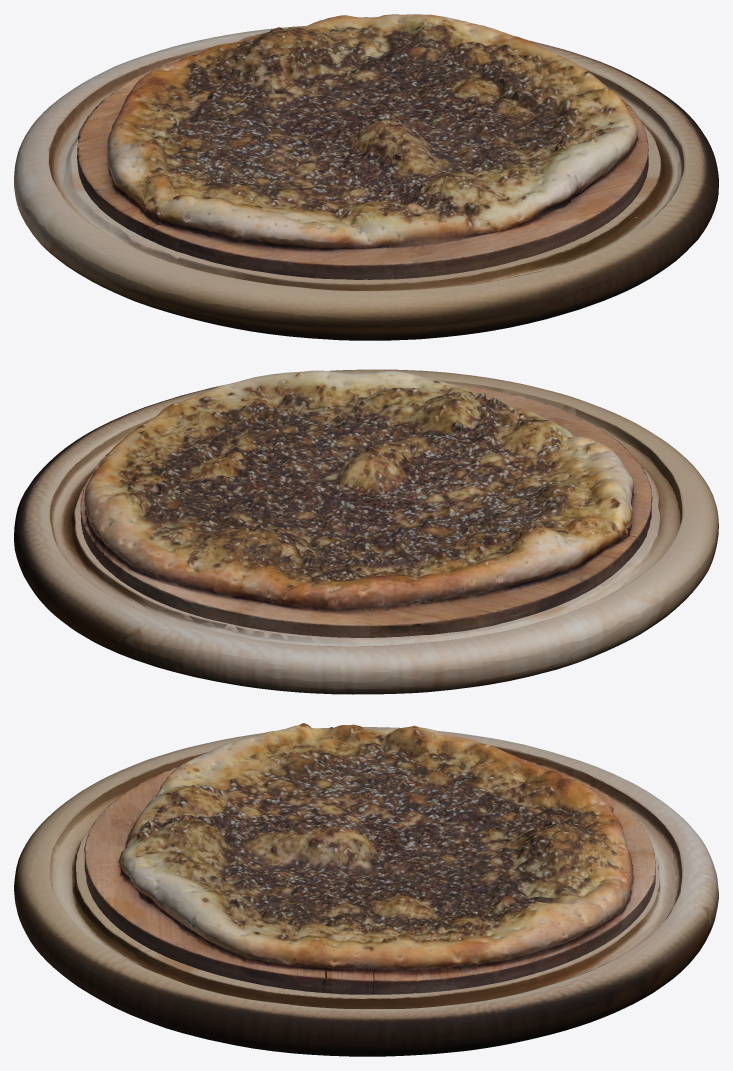
The model's file is Mankouche.Zatar.glb.
3 renders of one model, top to bottom at view 1: azimuth 30°, elevation 25°; view 2: azimuth 150°, elevation 25°; view 3: azimuth 270°, elevation 25°, orthographic.
Visible parts, largest first — view 1: /Root/Scenes/Scene/Object_37/Object_38/Submesh_0, /Root/Scenes/Scene/Object_37/Object_41/Object_42/Submesh_0; view 2: /Root/Scenes/Scene/Object_37/Object_38/Submesh_0, /Root/Scenes/Scene/Object_37/Object_41/Object_42/Submesh_0; view 3: /Root/Scenes/Scene/Object_37/Object_38/Submesh_0, /Root/Scenes/Scene/Object_37/Object_41/Object_42/Submesh_0.
Boxes of the visible parts, x1=… form: /Root/Scenes/Scene/Object_37/Object_38/Submesh_0: x1=77, y1=14, x2=648, y2=279; /Root/Scenes/Scene/Object_37/Object_41/Object_42/Submesh_0: x1=14, y1=26, x2=718, y2=340; /Root/Scenes/Scene/Object_37/Object_38/Submesh_0: x1=80, y1=370, x2=652, y2=637; /Root/Scenes/Scene/Object_37/Object_41/Object_42/Submesh_0: x1=14, y1=369, x2=718, y2=694; /Root/Scenes/Scene/Object_37/Object_38/Submesh_0: x1=84, y1=723, x2=655, y2=994; /Root/Scenes/Scene/Object_37/Object_41/Object_42/Submesh_0: x1=14, y1=727, x2=718, y2=1056.
Size of the model in its own units: 0.3737 by 0.0548 by 0.3738.
2 materials, 2 textured.
